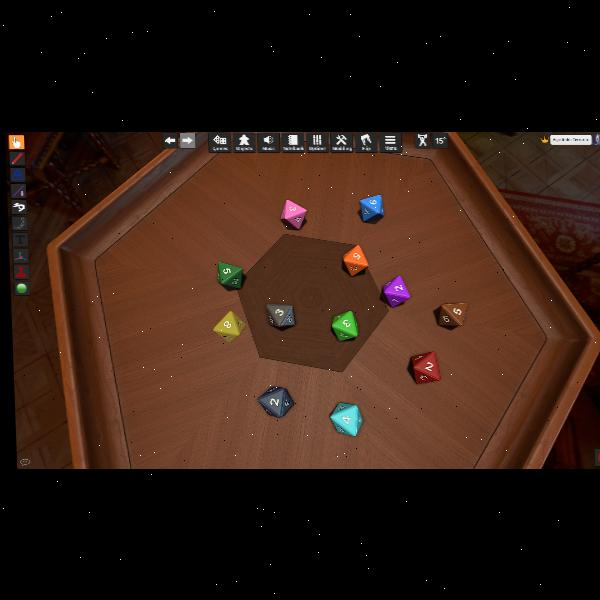d8: (257, 386, 294, 418), (212, 310, 246, 342), (330, 404, 363, 436), (331, 310, 359, 340), (415, 352, 442, 383), (281, 199, 307, 230), (342, 245, 368, 276), (384, 274, 410, 304), (266, 303, 295, 327), (437, 301, 466, 325), (217, 262, 243, 288), (359, 194, 383, 222)
